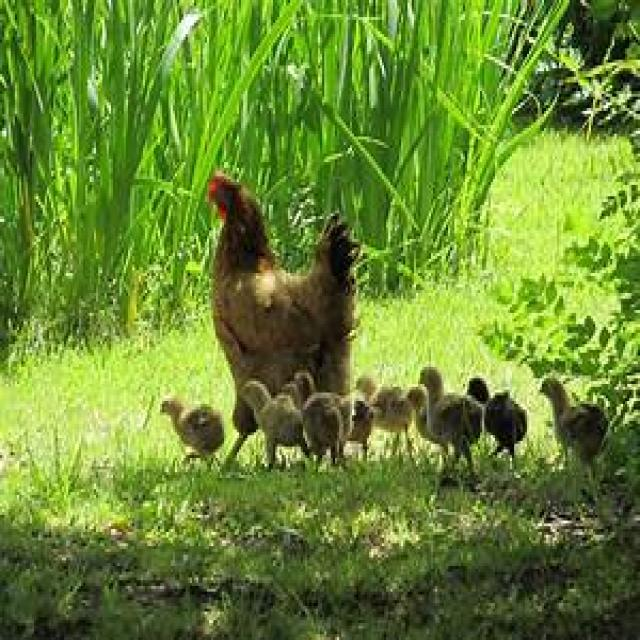hen: (209, 173, 360, 458)
